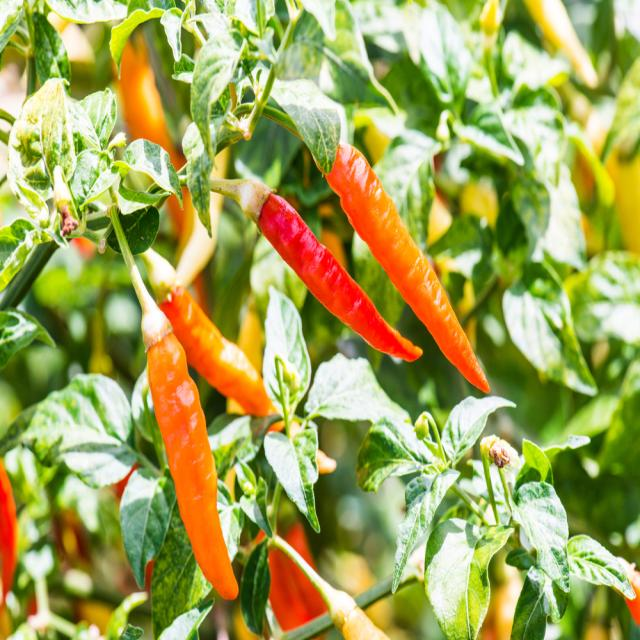Ripe: (326, 142, 489, 392), (258, 193, 421, 361), (148, 334, 239, 599), (160, 287, 275, 415)
